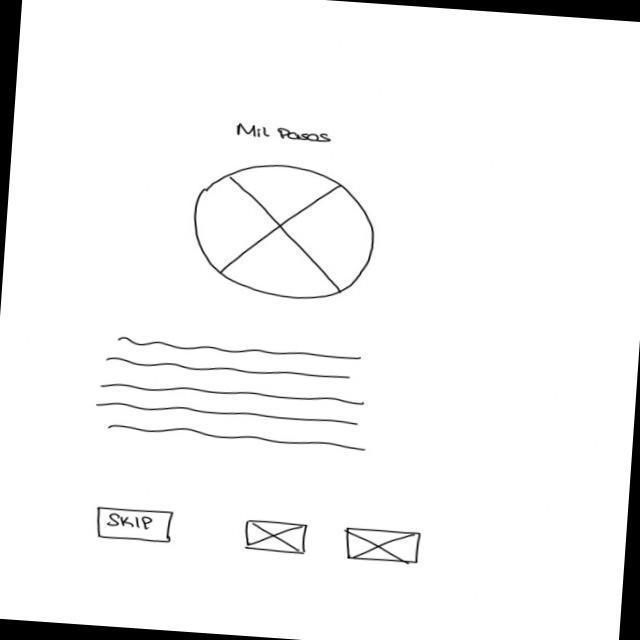button: (95, 505, 177, 546)
image: (186, 157, 382, 307), (340, 525, 425, 568), (242, 518, 314, 556)
label: (233, 122, 333, 146)
textbox: (91, 332, 379, 457)
